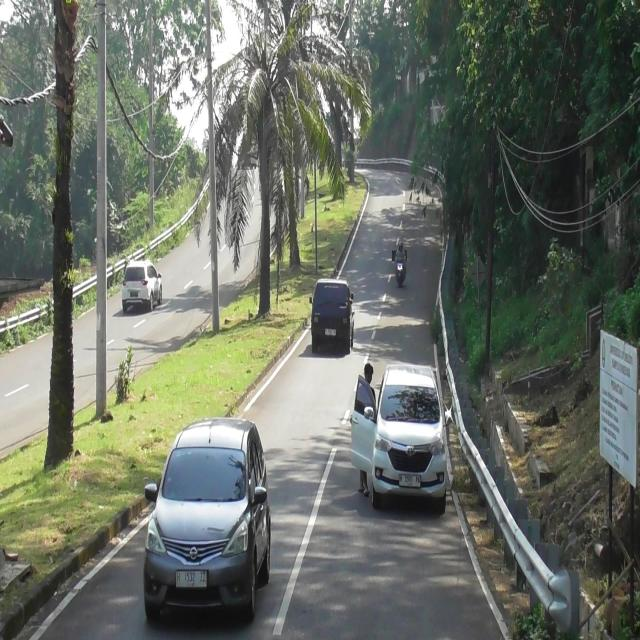motorcycle: (397, 255, 405, 287)
person: (396, 242, 406, 262)
rider_region: (395, 238, 408, 291)
